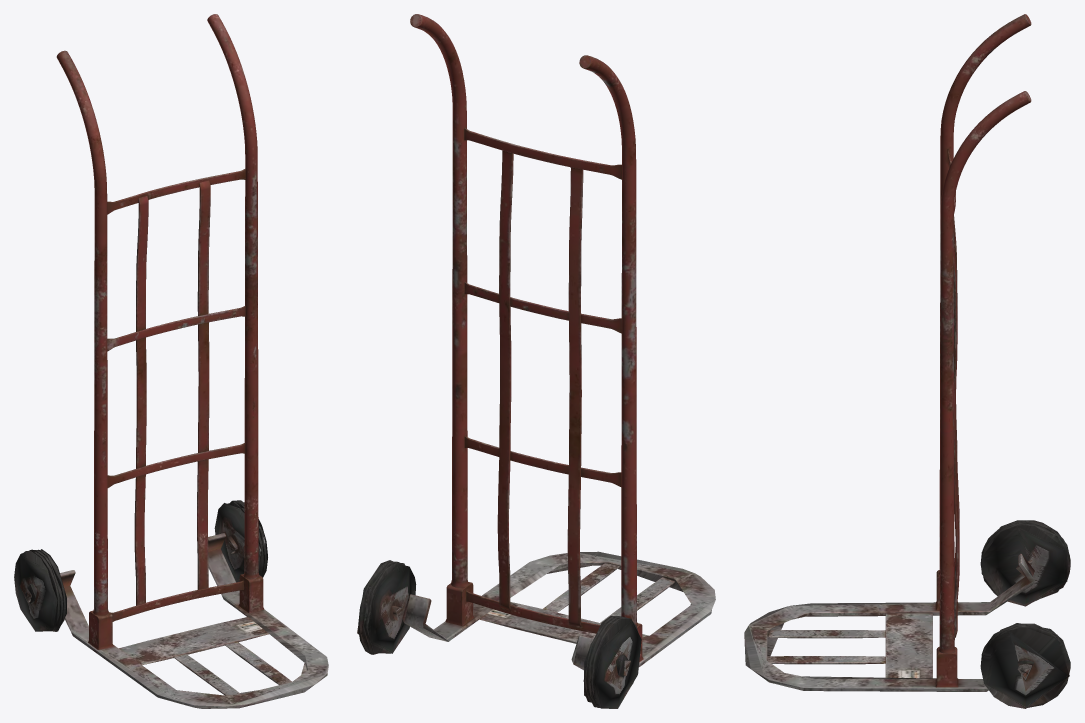
File: hand_truck.glb
3 renders of one model, left to right at view 1: azimuth 30°, elevation 25°; view 2: azimuth 150°, elevation 25°; view 3: azimuth 270°, elevation 25°, orthographic. The views are drawn at different scales.
Visible parts, largest first — view 1: hand_truck; view 2: hand_truck; view 3: hand_truck.
Part boxes in pixels (x1=…): hand_truck: x1=14, y1=14, x2=328, y2=708; hand_truck: x1=357, y1=14, x2=715, y2=708; hand_truck: x1=744, y1=14, x2=1070, y2=708.
Bounding box in the file's own units: 0.5861 × 1.4 × 0.6907.
Materials: 1 (1 with a texture image).
